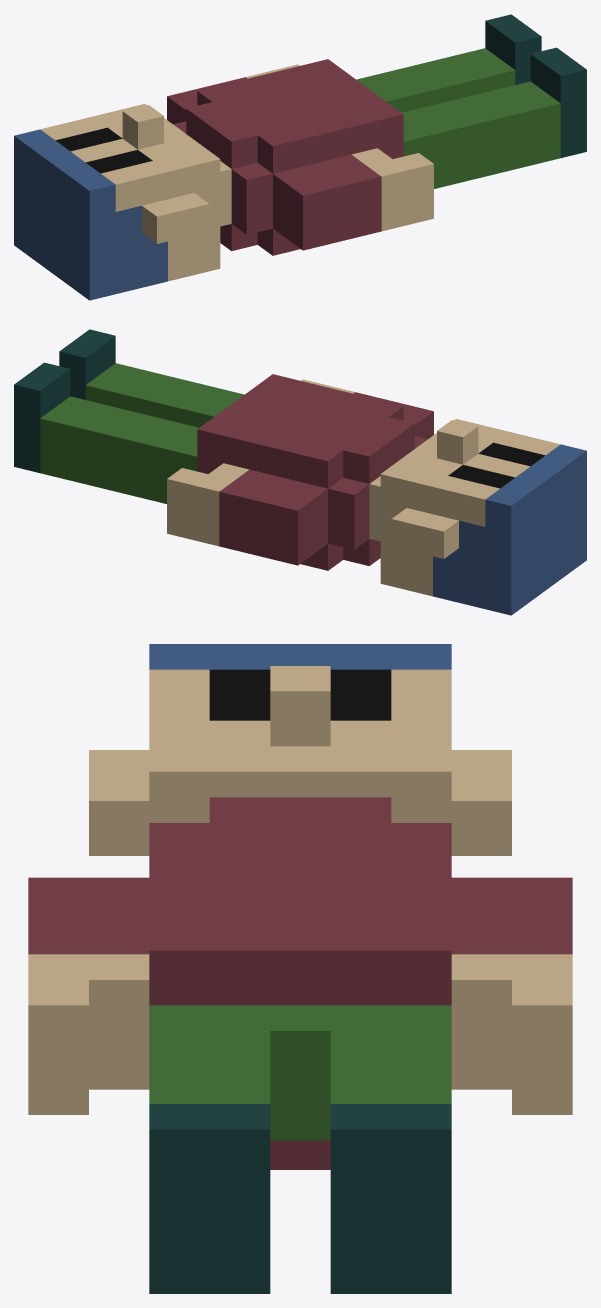
The model's file is Toy00.gltf.
3 renders of one model, top to bottom at view 1: azimuth 30°, elevation 25°; view 2: azimuth 150°, elevation 25°; view 3: azimuth 270°, elevation 25°, orthographic. The views are drawn at different scales.
Visible parts, largest first — view 1: Layer.1; view 2: Layer.1; view 3: Layer.1.
Boxes of the visible parts, x1=… form: Layer.1: x1=14, y1=14, x2=586, y2=300; Layer.1: x1=14, y1=329, x2=586, y2=615; Layer.1: x1=28, y1=644, x2=572, y2=1293.
Bounding box in the file's own units: 19 × 5 × 9.
